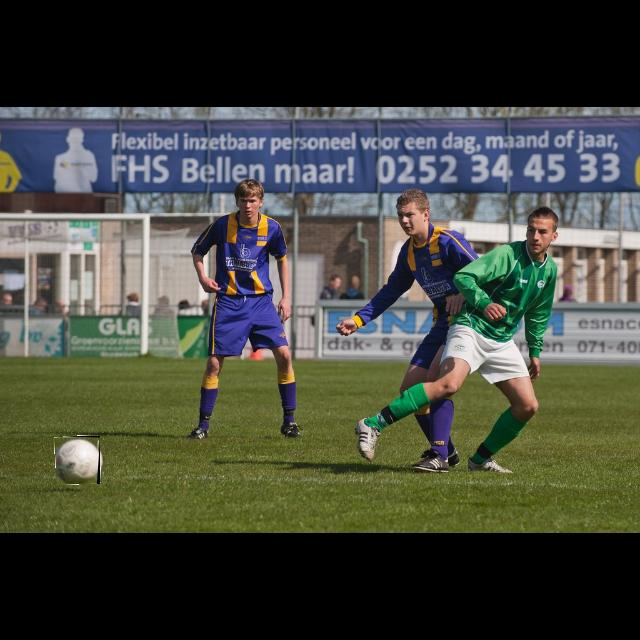Football: (56, 436, 100, 484)
